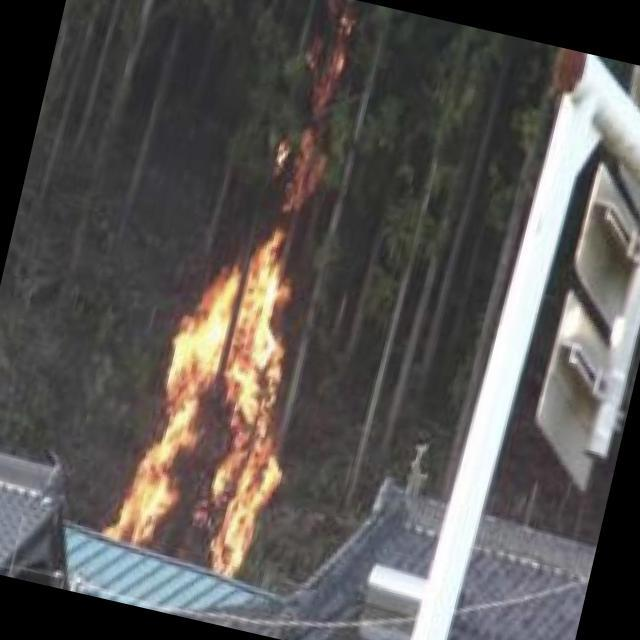Fire: (107, 209, 342, 586)
